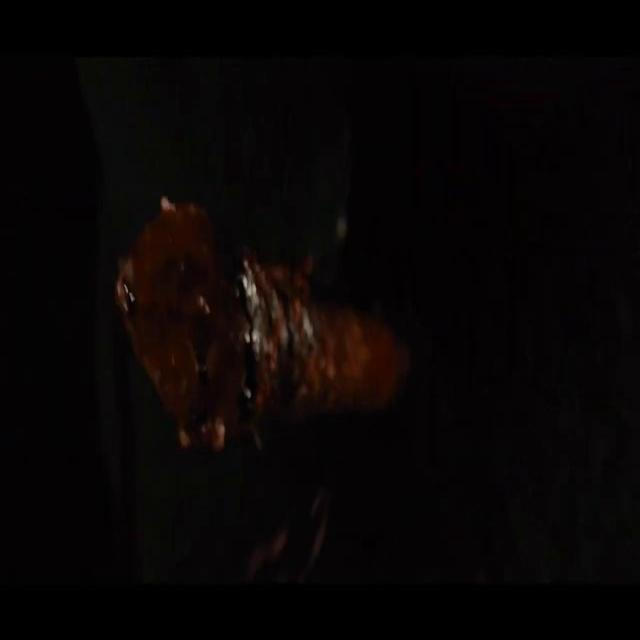flood: (109, 189, 396, 447)
